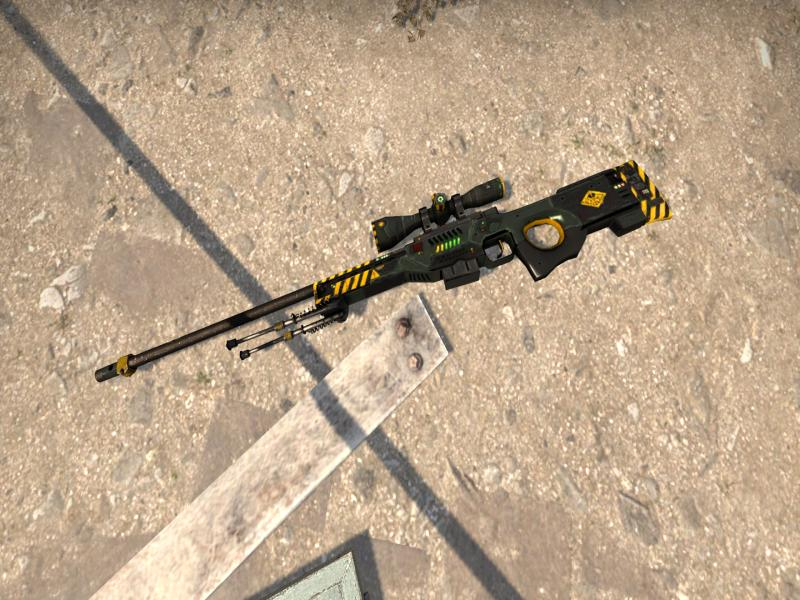AWP: (95, 159, 673, 382)
